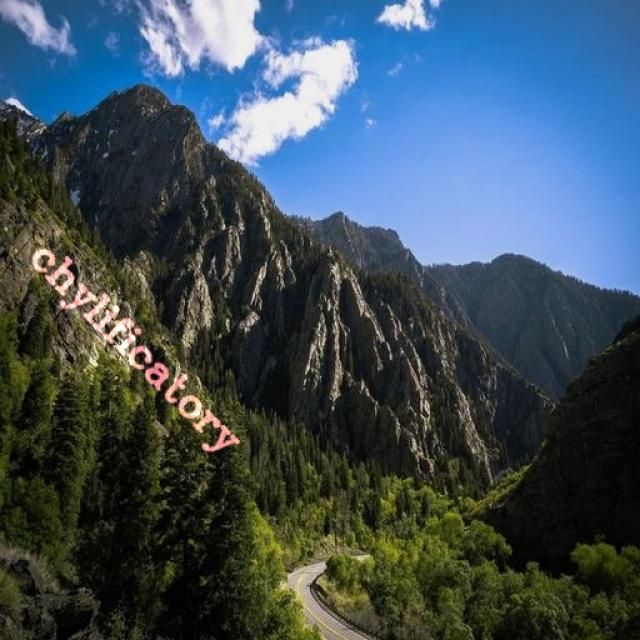watermark: (18, 227, 254, 463)
